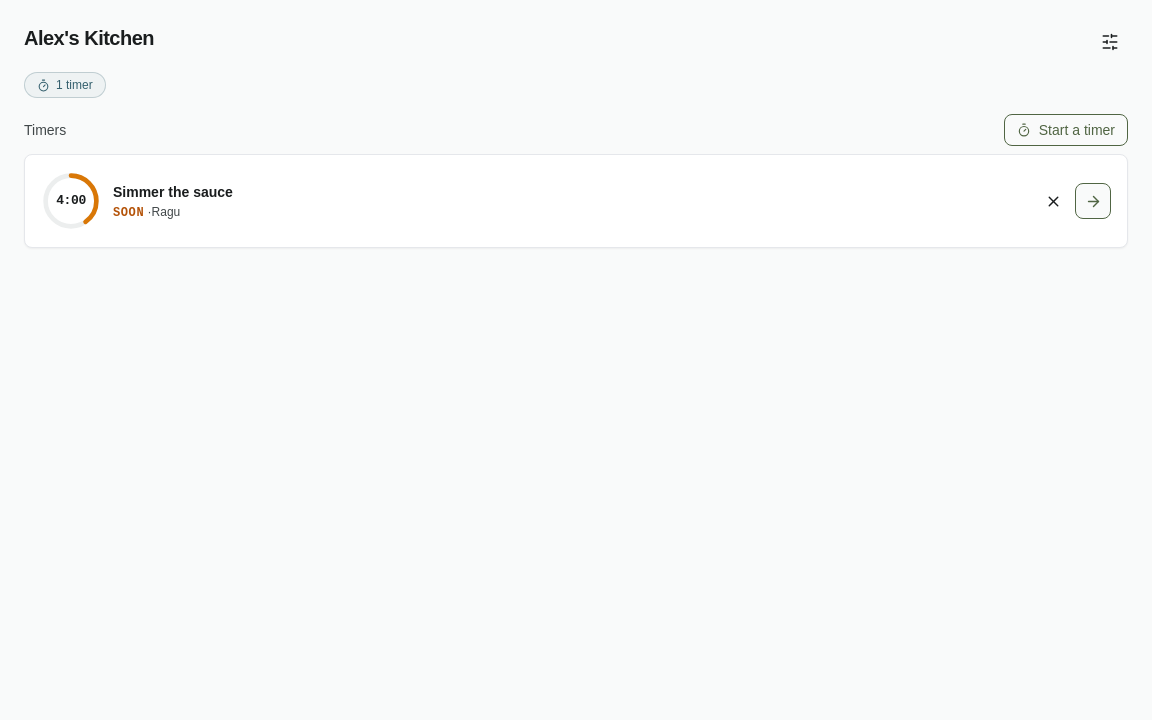
Scenario: MinePage — the workbench › shows a glance tile for a switched-on, non-zero section, and drops it once switched off
The image size is (1152, 720).
expect the element with test id "mine-stats" reads "1 timer": met, box [24,72,106,98]
What coordinates should you click on to do the following:
click the button with test id "mine-customize-open"
I would click on:
 (1110, 42)
Its box is [1092,24,1128,60].
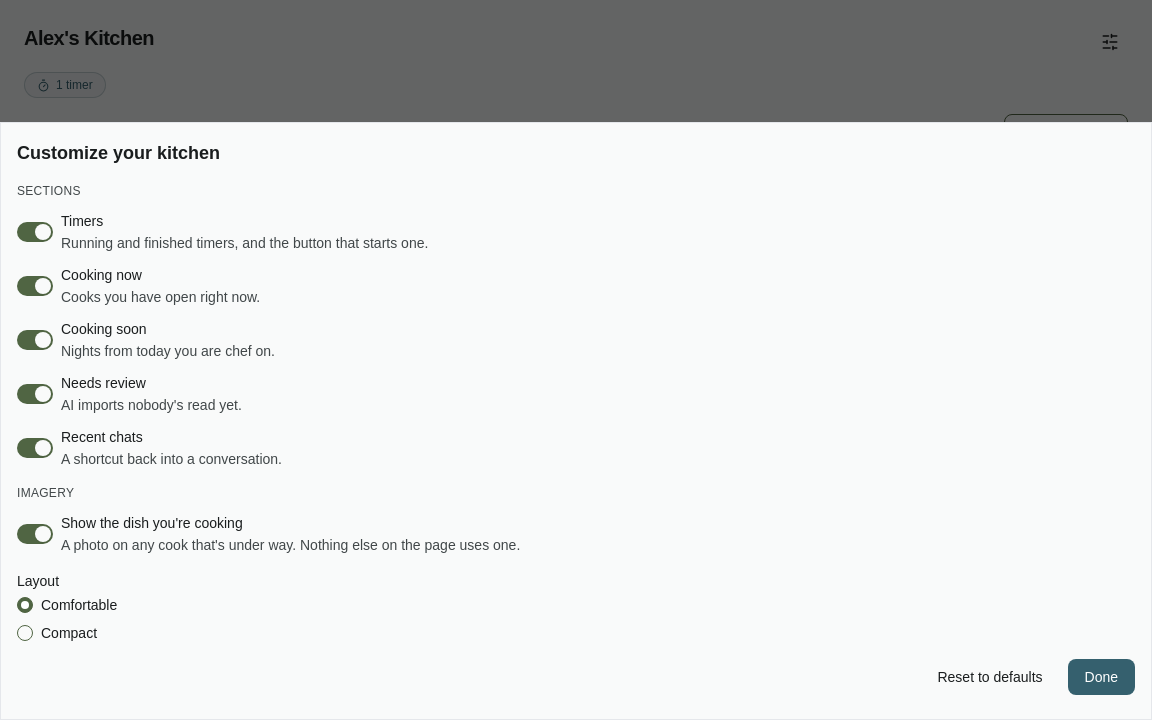
What coordinates should you click on to do the following:
click the 1st switch
I would click on:
 (35, 232)
Its box is [17,222,53,242].
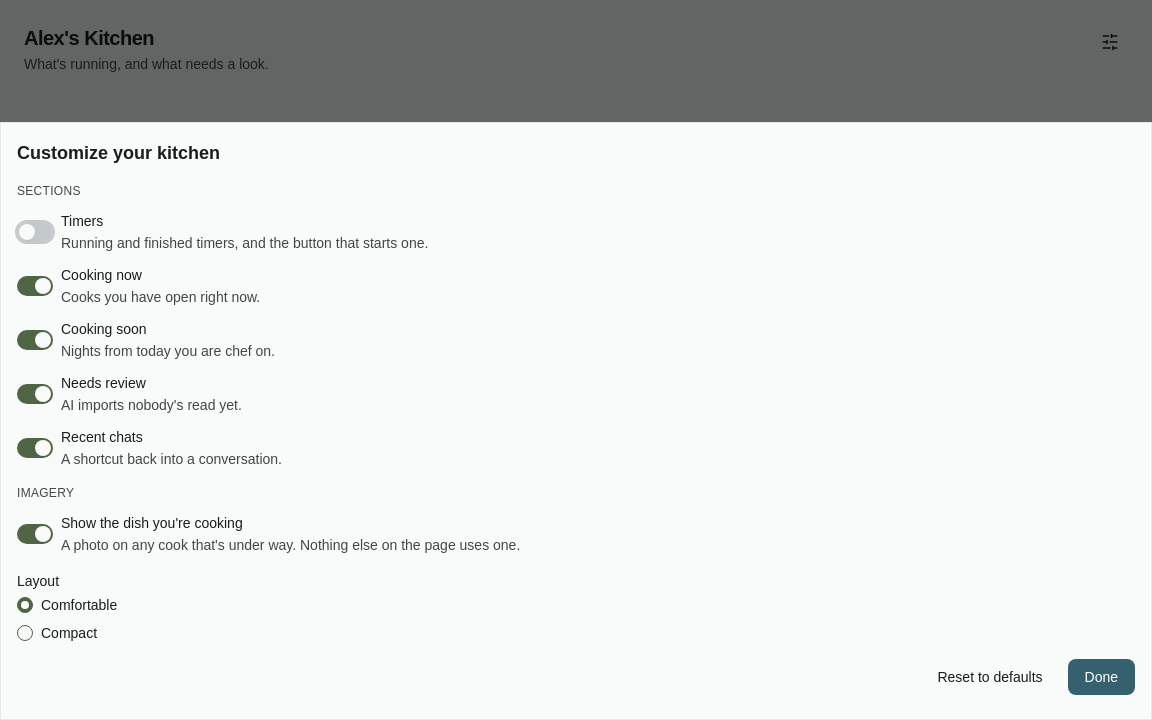
expect the element with test id "mine-stats" is gone: met
